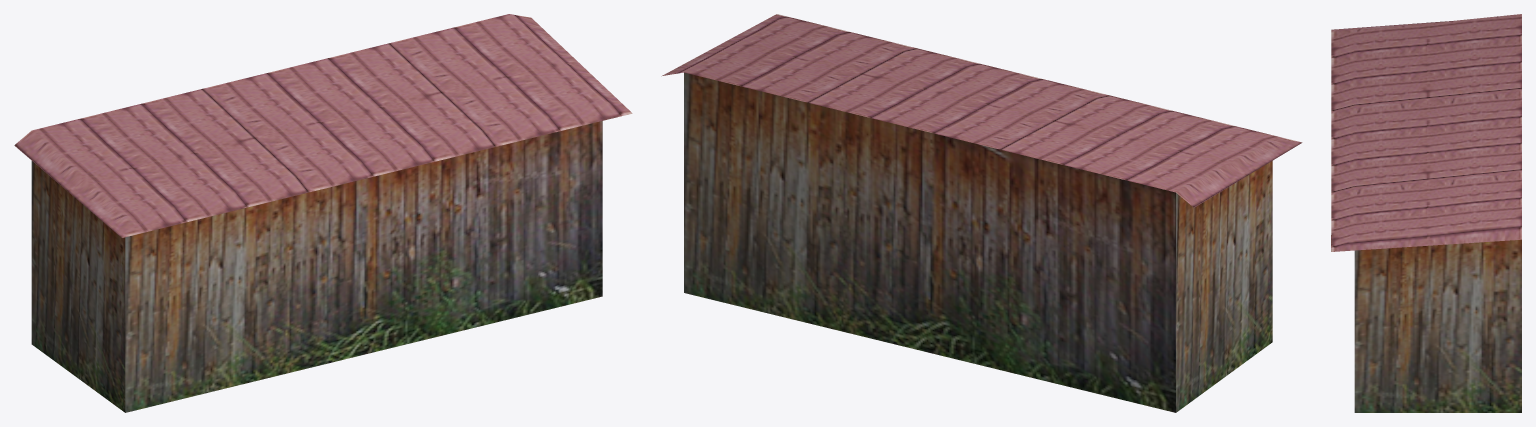
File: Fbig2.FBX
3 renders of one model, left to right at view 1: azimuth 30°, elevation 25°; view 2: azimuth 150°, elevation 25°; view 3: azimuth 270°, elevation 25°, orthographic. The views are drawn at different scales.
Visible parts, largest first — view 1: Fbig2; view 2: Fbig2; view 3: Fbig2.
Part boxes in pixels (box(x1,y1,x2,y2)): Fbig2: box(14, 14, 632, 412); Fbig2: box(661, 14, 1302, 412); Fbig2: box(1331, 14, 1521, 412).
Bounding box in the file's own units: 878 × 347 × 314.
